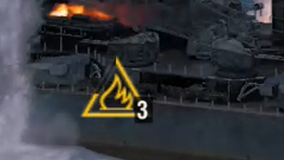3fire: (78, 85, 154, 125)
